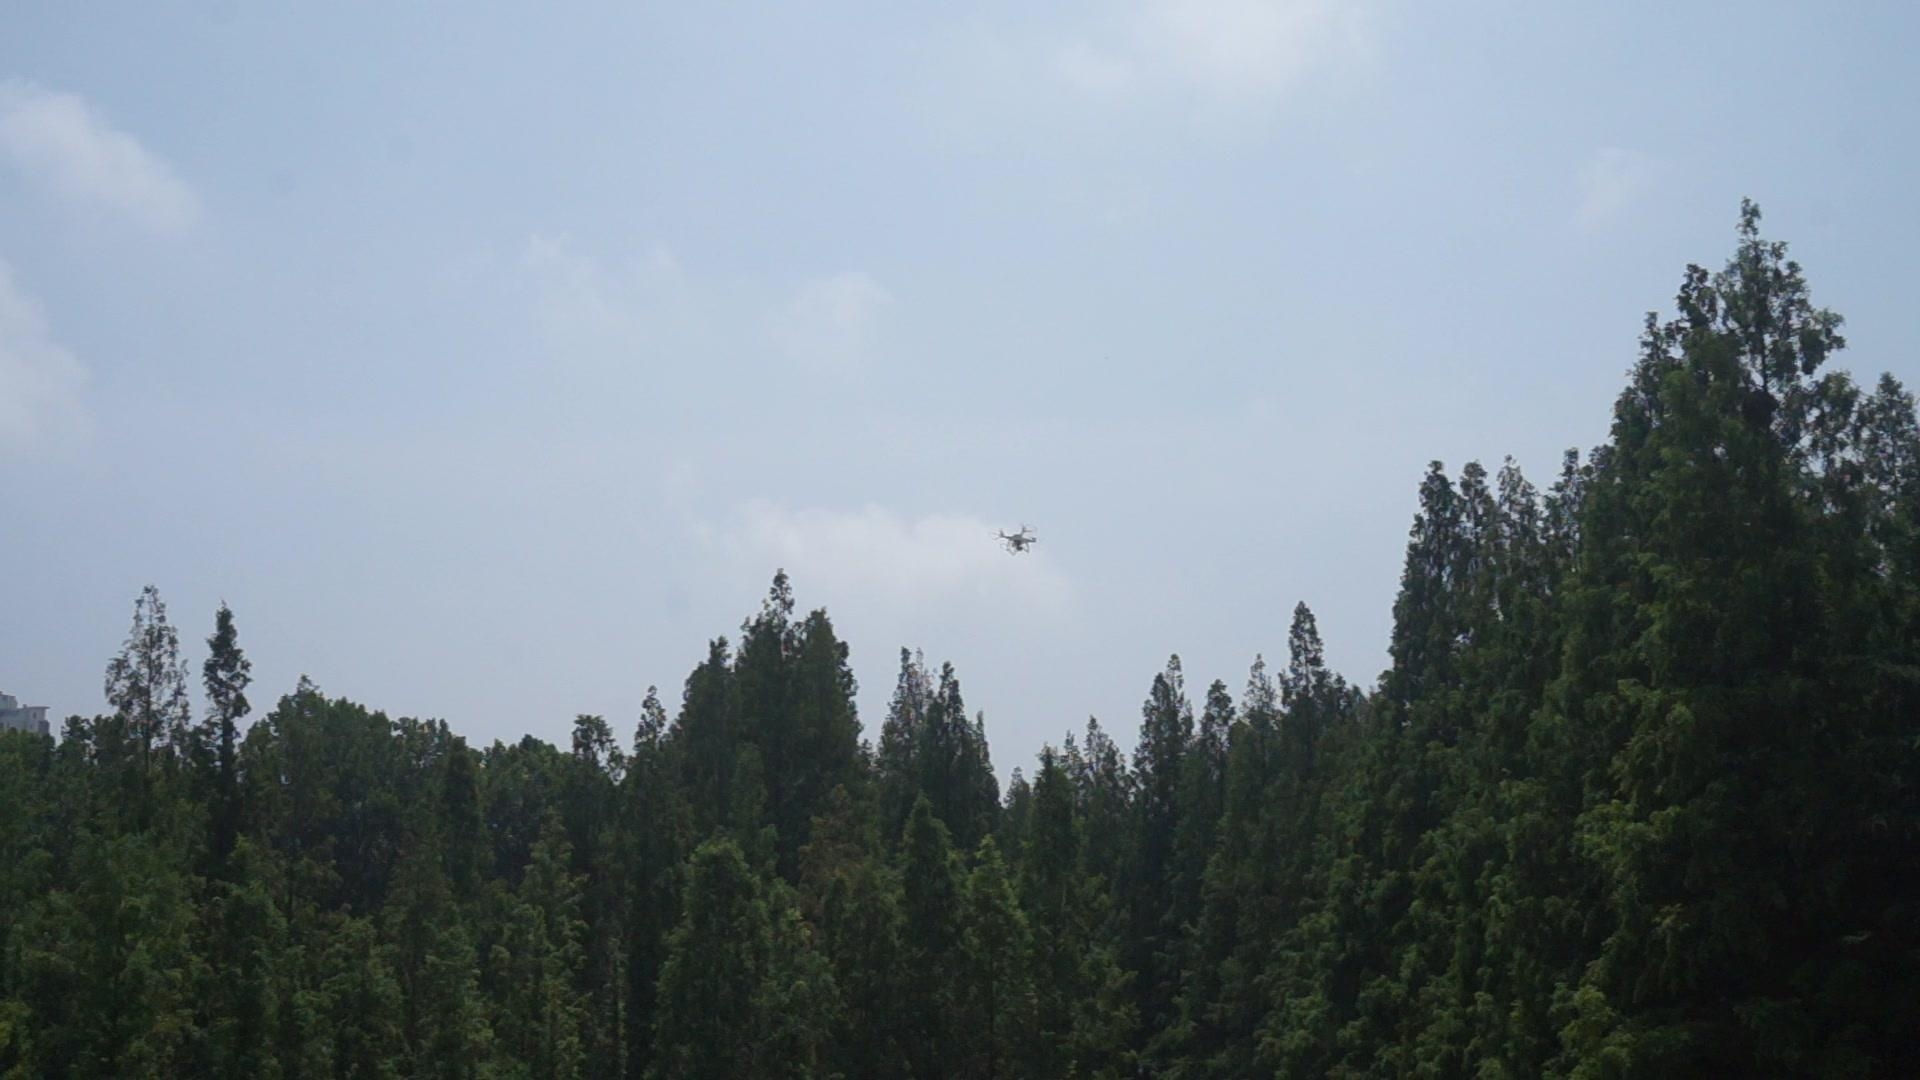UAV: (992, 524, 1038, 556)
